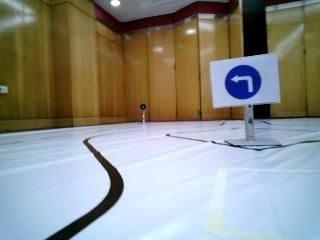left: (217, 63, 269, 108)
